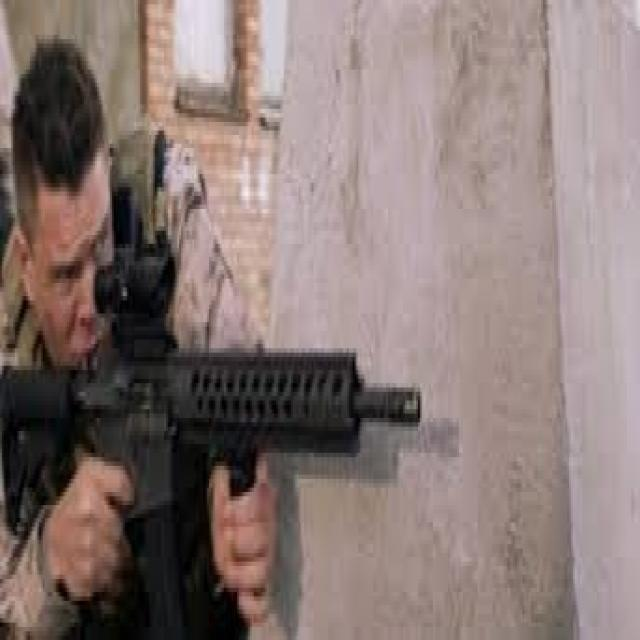weapon: (0, 267, 427, 640)
